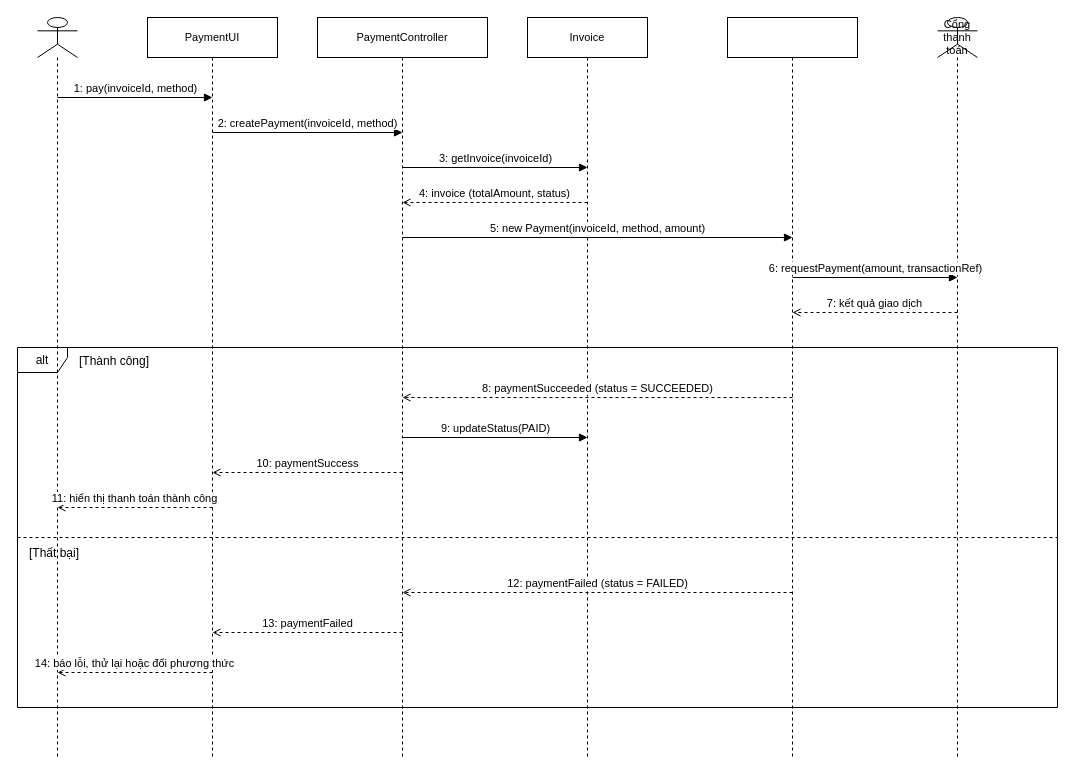
The diagram is 1076 pixels wide and 775 high, and some of its shapes have lost their labels. Each missing label, with the box of its shape:
Payment: (726, 16, 858, 758)
Thu ngân: (36, 16, 78, 758)
